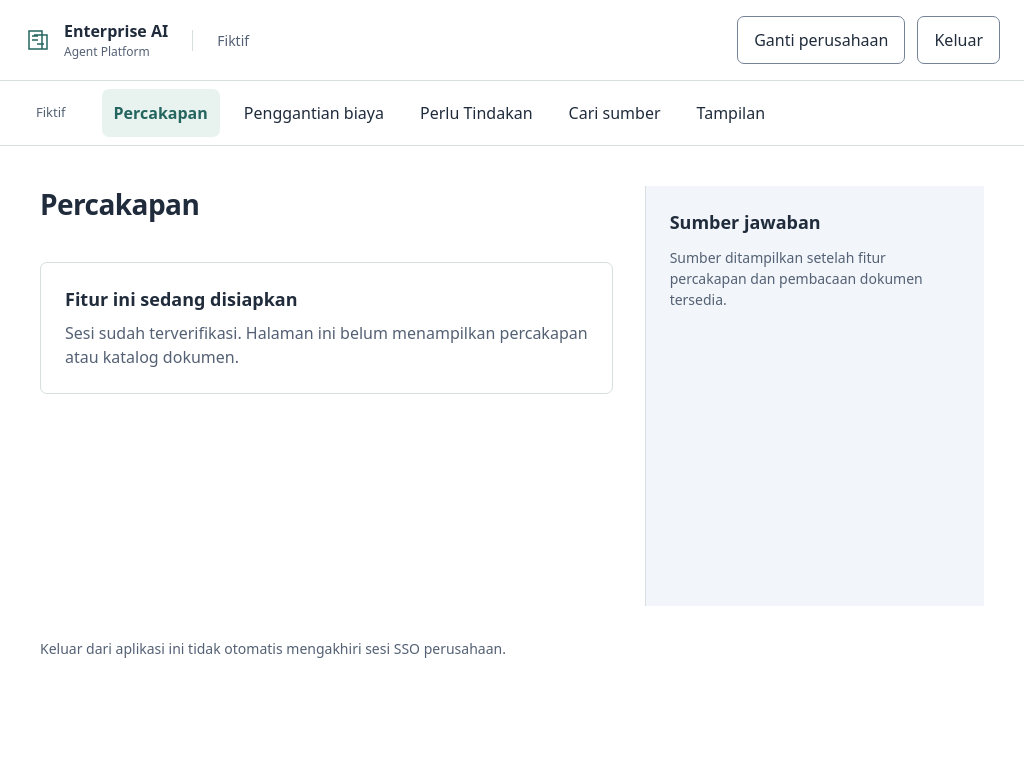
reports unknown logout, retains no private view and reconciles without resending POST
The image size is (1024, 768).
Click the button "Keluar" at (959, 40), box [918,16,1000,64]
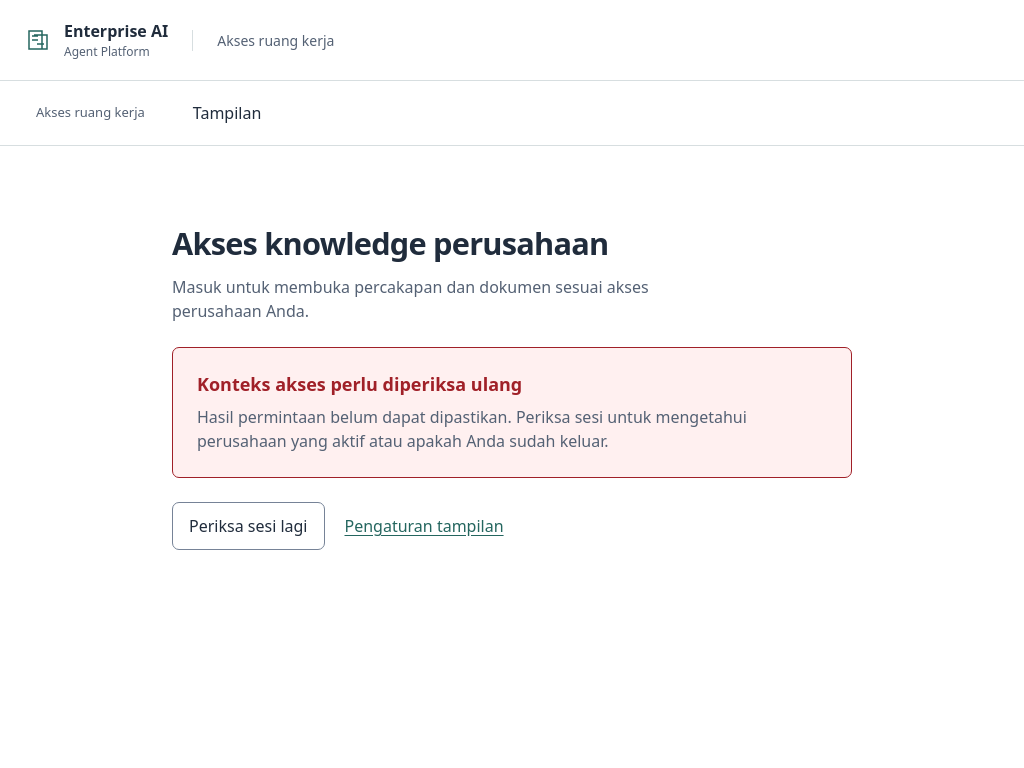
expect the text "Hasil permintaan belum dapat dipastikan" is shown: met, box [197,406,747,452]
Click the button "Periksa sesi lagi" at (248, 526), box [172,502,324,550]
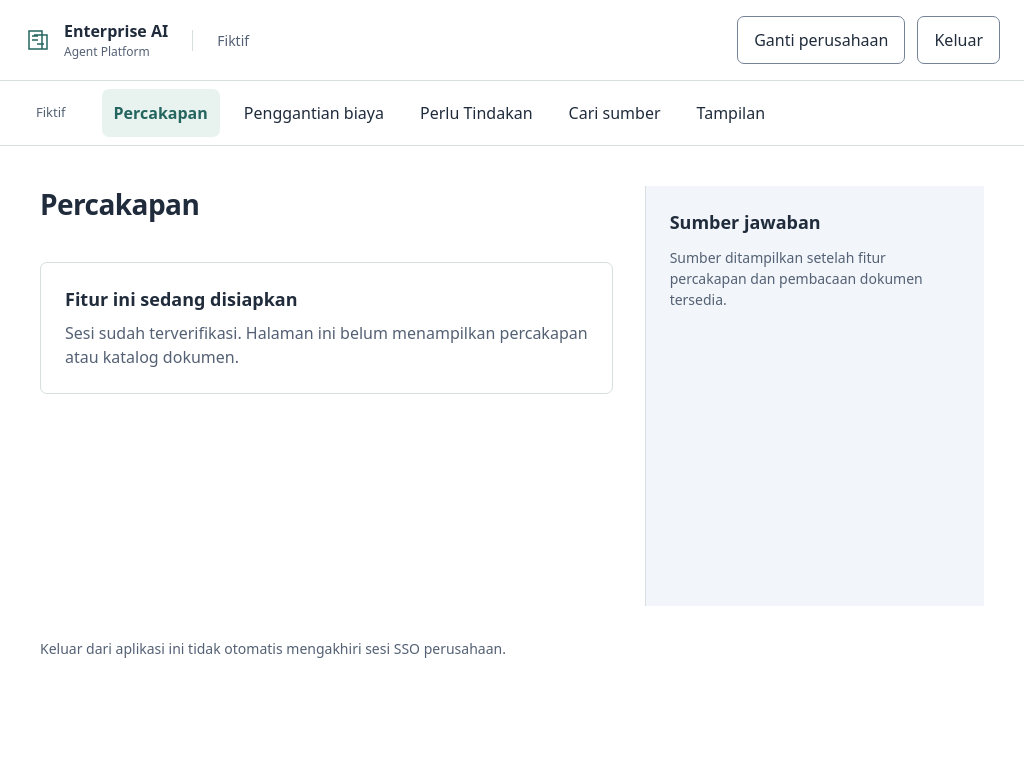
expect the button "Keluar" is shown: met, box [918,16,1000,64]
